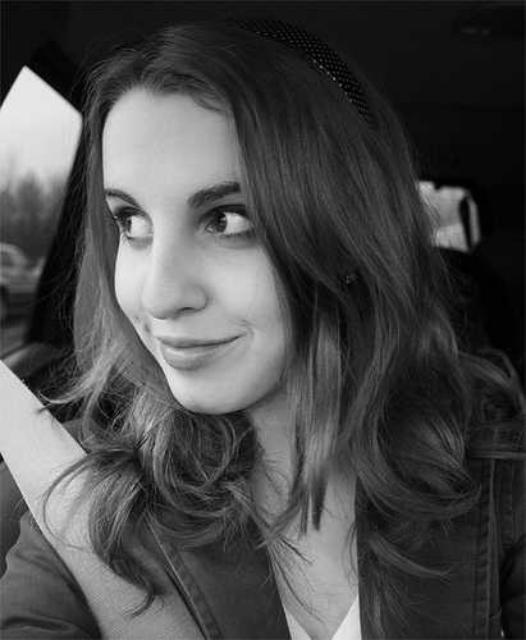SafeDriving: (192, 187, 264, 248), (100, 194, 162, 256)
Seatbelt: (1, 352, 214, 640)
